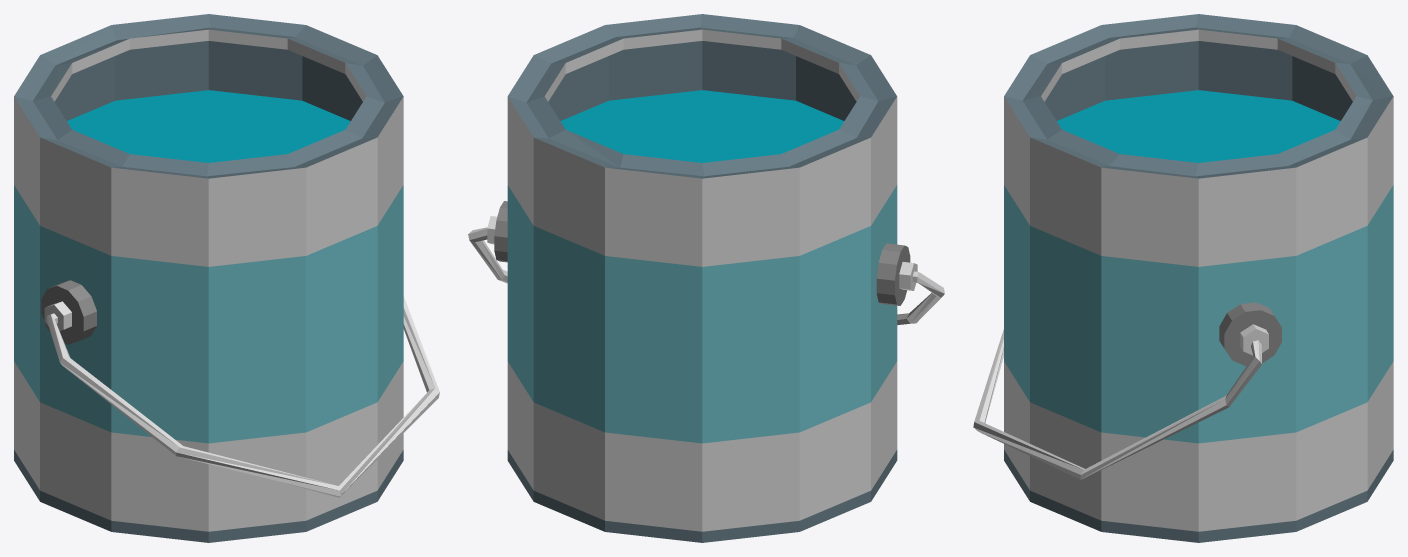
3 views of the same model, side by side, from view 1: azimuth 30°, elevation 25°; view 2: azimuth 150°, elevation 25°; view 3: azimuth 270°, elevation 25° (orthographic).
Parts seen in each view (by area): view 1: node_MeshObject29421696-PolyPaper21; view 2: node_MeshObject29421696-PolyPaper21; view 3: node_MeshObject29421696-PolyPaper21.
Part boxes in pixels (x1,y1,x2,y2): node_MeshObject29421696-PolyPaper21: (14, 14, 439, 542); node_MeshObject29421696-PolyPaper21: (468, 14, 944, 542); node_MeshObject29421696-PolyPaper21: (973, 14, 1393, 542).
Size of the model in its own units: 0.7463 by 0.65 by 0.6795.
